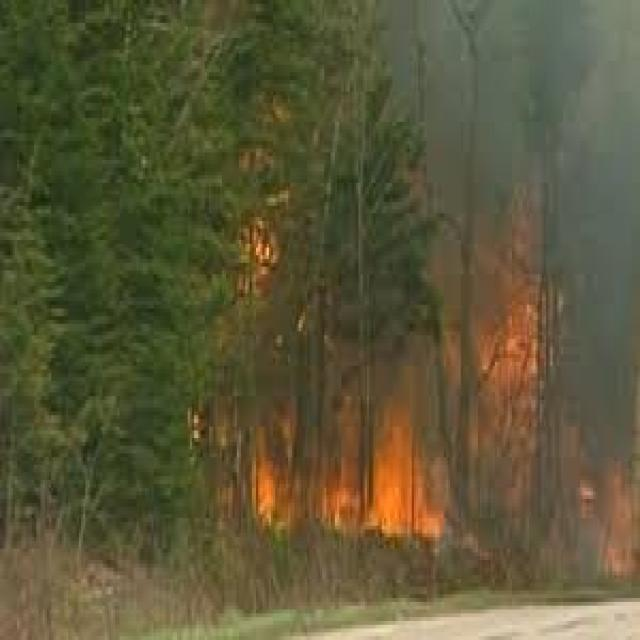Fire: (412, 163, 548, 404), (320, 417, 470, 570), (492, 291, 564, 465), (231, 215, 282, 320), (255, 455, 279, 526)
Smoke: (571, 0, 640, 487), (374, 0, 596, 151)
